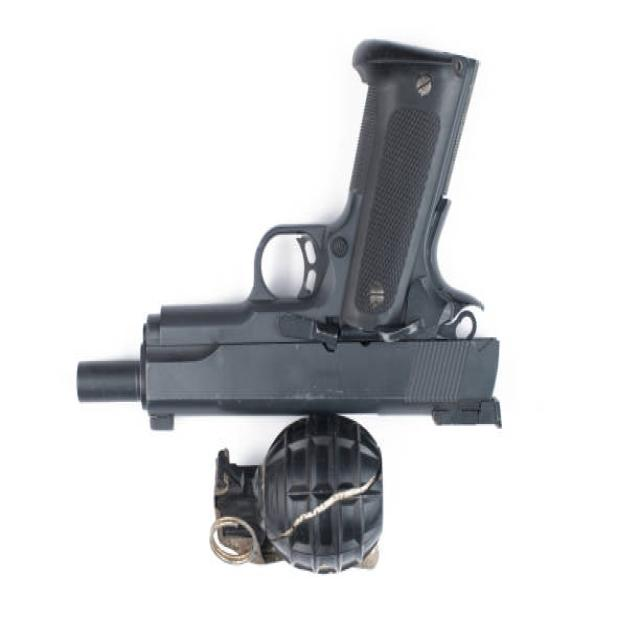grenade: (204, 404, 401, 585)
